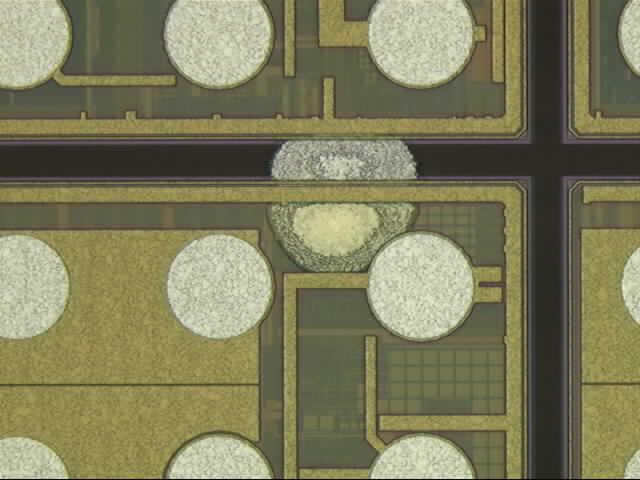BLOCK ETCH: (266, 140, 423, 274)
